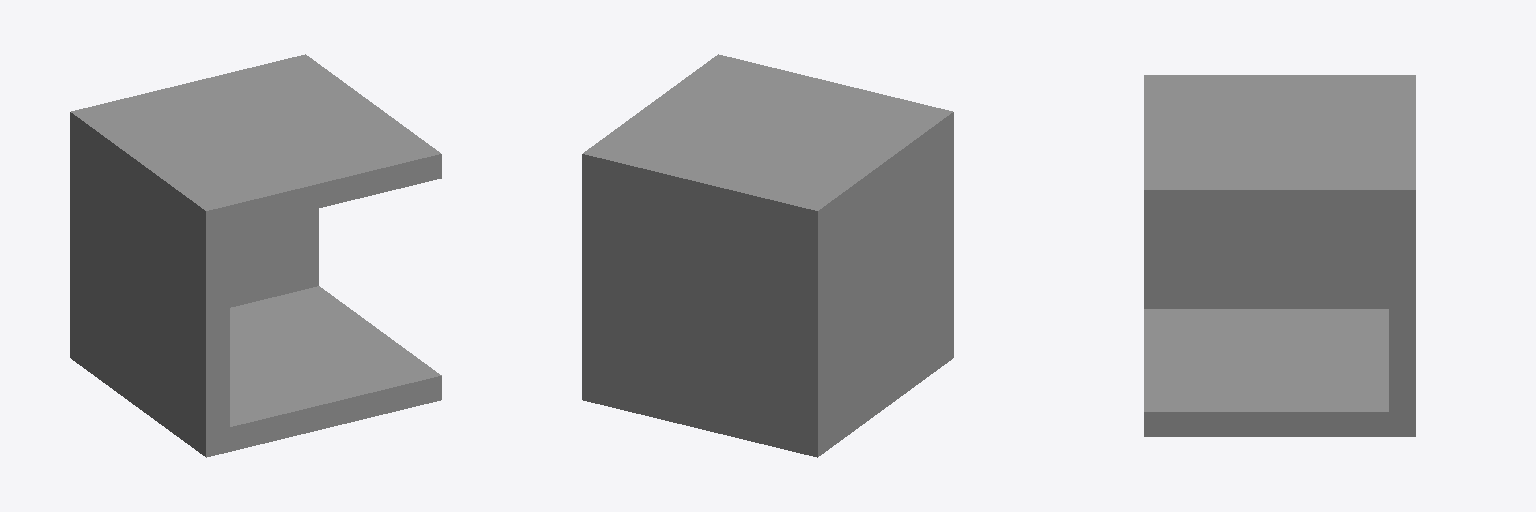
Rendered from start.obj.
The picture shows the model from 3 angles: view 1: azimuth 30°, elevation 25°; view 2: azimuth 150°, elevation 25°; view 3: azimuth 270°, elevation 25°; orthographic projection.
Visible parts, largest first — view 1: Cube; view 2: Cube; view 3: Cube.
Part boxes in pixels (left/top/right/bottom): Cube: left=70, top=54, right=441, bottom=457; Cube: left=582, top=54, right=953, bottom=457; Cube: left=1144, top=75, right=1415, bottom=436.
Bounding box in the file's own units: 2 × 2 × 2.